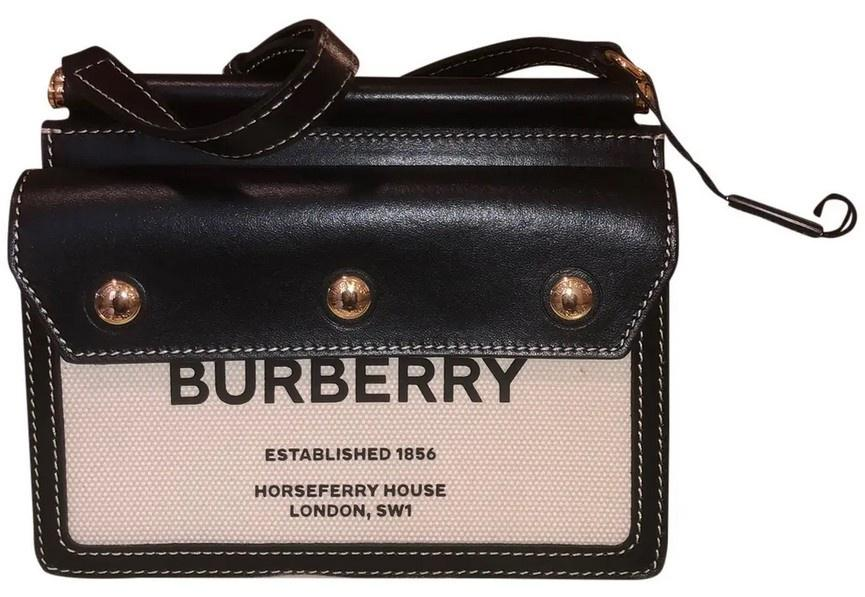BURBERRY: (169, 356, 527, 406)
